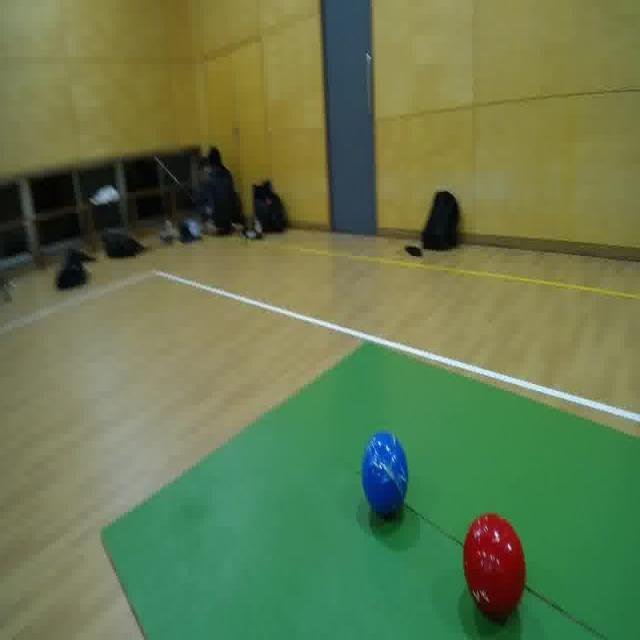blue_ball: (358, 427, 409, 524)
red_ball: (461, 508, 528, 623)
